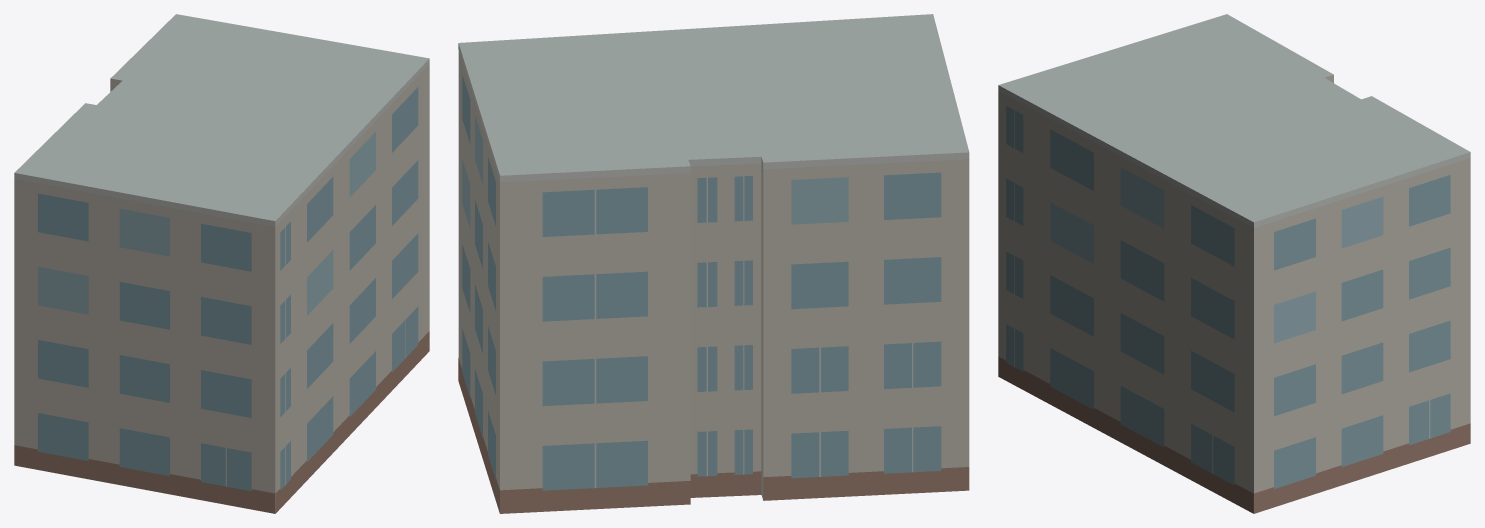
File: survey-upis-32690980.glb
3 views of the same model, side by side, from view 1: azimuth 30°, elevation 25°; view 2: azimuth 150°, elevation 25°; view 3: azimuth 270°, elevation 25° (orthographic). The views are drawn at different scales.
Visible parts, largest first — view 1: survey-upis-32690980.tmp; view 2: survey-upis-32690980.tmp; view 3: survey-upis-32690980.tmp.
Boxes of the visible parts, box(x1,y1,x2,y2) form: survey-upis-32690980.tmp: box(14, 14, 429, 513); survey-upis-32690980.tmp: box(458, 14, 969, 513); survey-upis-32690980.tmp: box(998, 14, 1470, 513).
Size of the model in its own units: 19.02 by 12.4 by 18.22.
